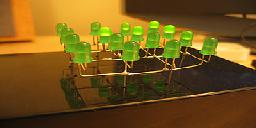LED: (163, 39, 188, 65), (120, 40, 142, 62), (201, 38, 222, 58), (132, 26, 145, 41)
